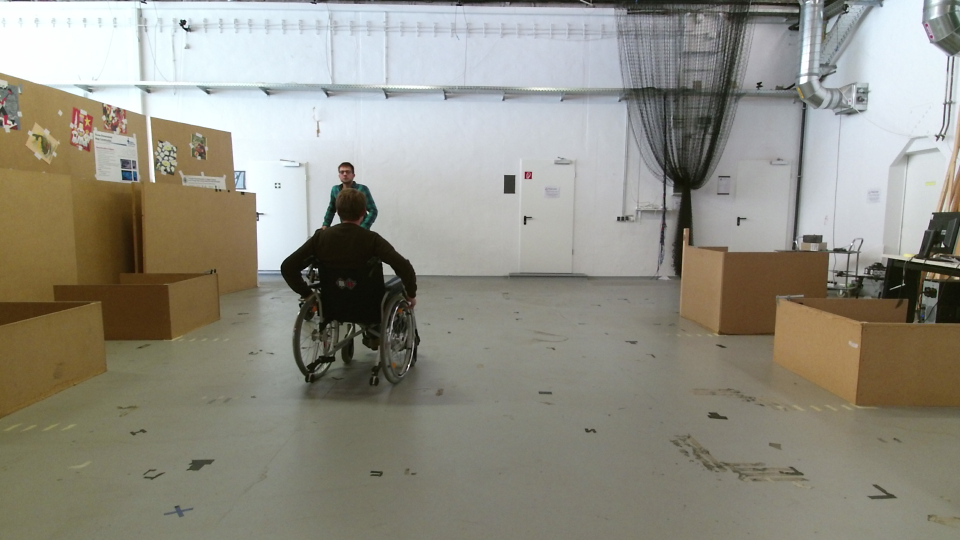wheelchair: (277, 183, 418, 398)
